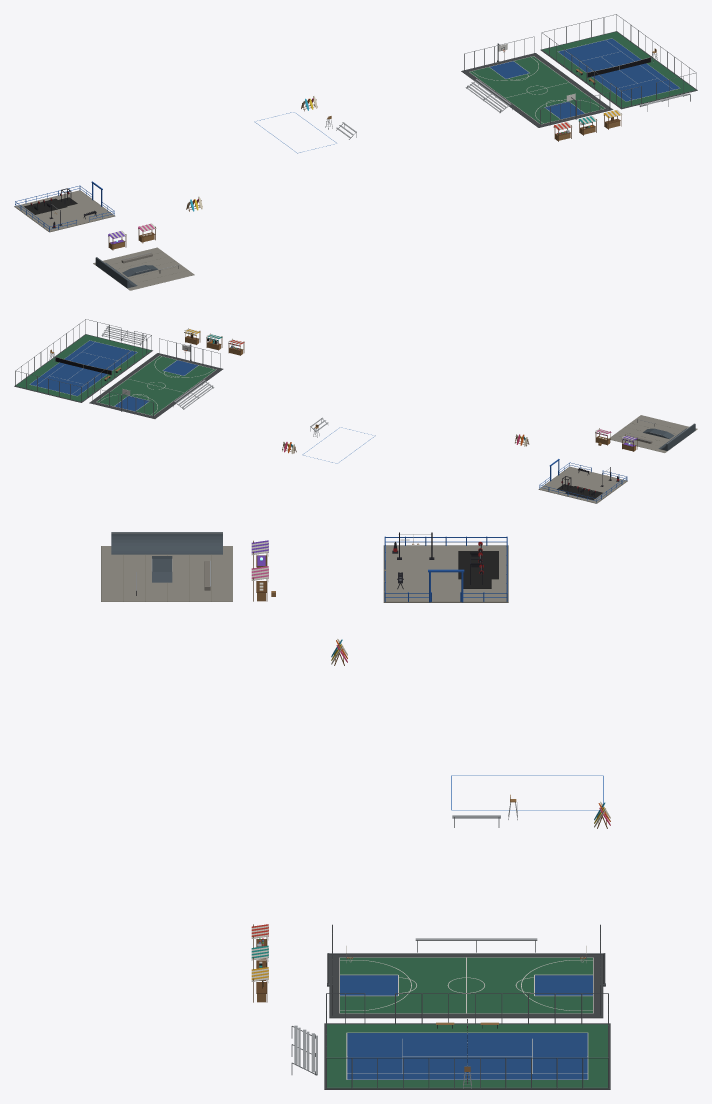
The model's file is gb-venice.glb.
3 views of the same model, one above another, from view 1: azimuth 30°, elevation 25°; view 2: azimuth 150°, elevation 25°; view 3: azimuth 270°, elevation 25° (orthographic). The views are drawn at different scales.
Parts seen in each view (by area): view 1: gb-venice; view 2: gb-venice; view 3: gb-venice.
Boxes of the visible parts, x1,y1,x2,y2 form: gb-venice: (14,14,697,290); gb-venice: (14,319,697,503); gb-venice: (101,532,610,1089).
Bounding box in the file's own units: 127 × 4.01 × 50.23.
